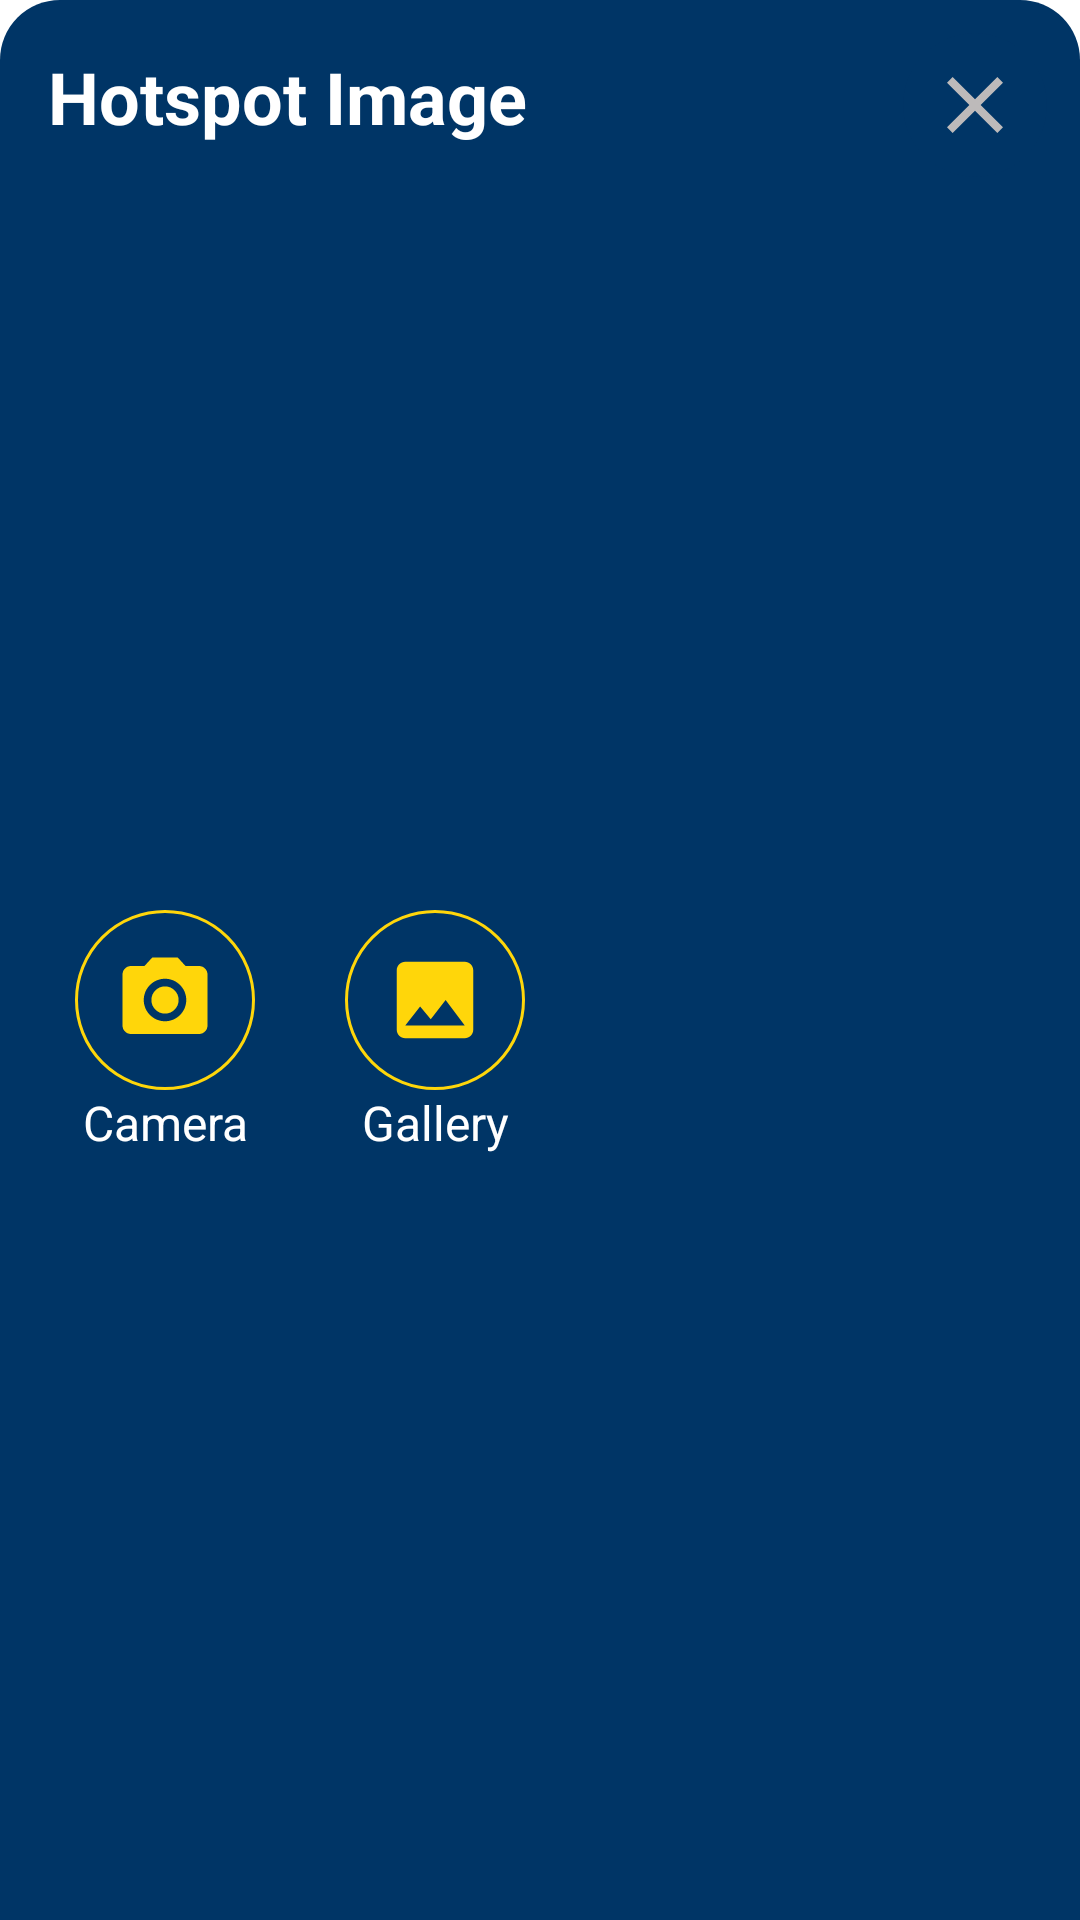

Point at icon controls on the screen. Image size 1080px x 1920px, points as (x=x, y=y).
Close: (x=975, y=105)
